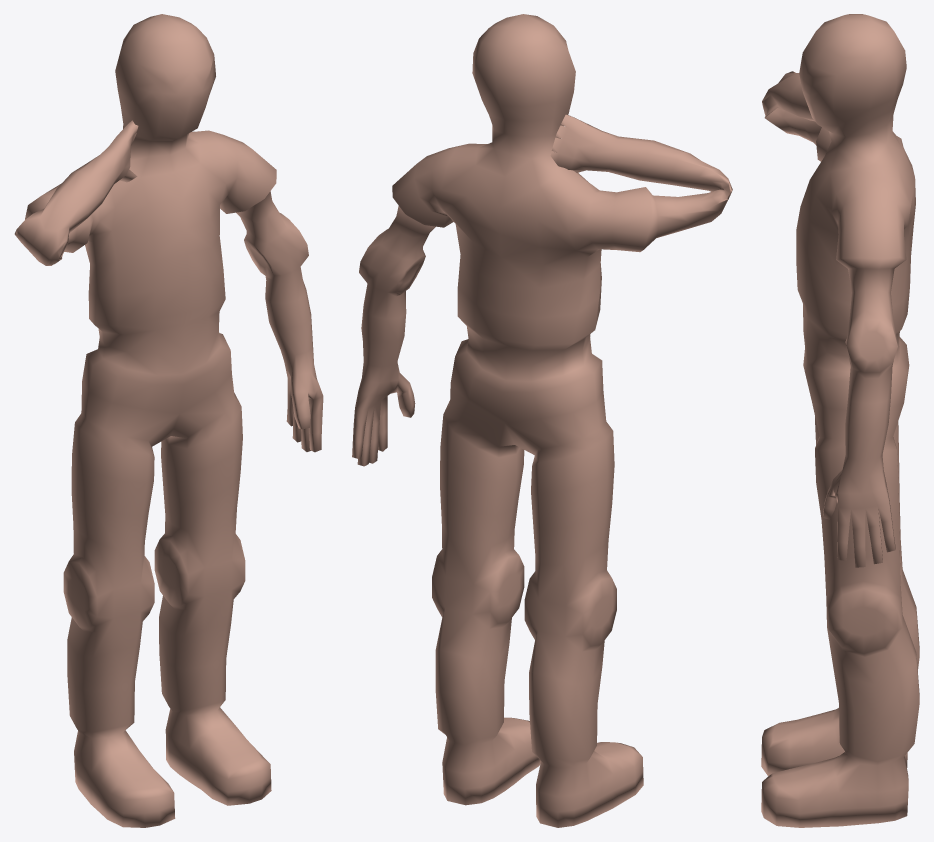
Rendered from dad_confused.fbx.
3 views of the same model, side by side, from view 1: azimuth 30°, elevation 25°; view 2: azimuth 150°, elevation 25°; view 3: azimuth 270°, elevation 25° (orthographic). The views are drawn at different scales.
Parts seen in each view (by area): view 1: RobotHumanoid:robot; view 2: RobotHumanoid:robot; view 3: RobotHumanoid:robot.
Boxes of the visible parts, x1,y1,x2,y2 form: RobotHumanoid:robot: [14, 14, 323, 827]; RobotHumanoid:robot: [352, 14, 732, 827]; RobotHumanoid:robot: [761, 14, 919, 827].
Size of the model in its own units: 6.53 by 14.41 by 2.67.
